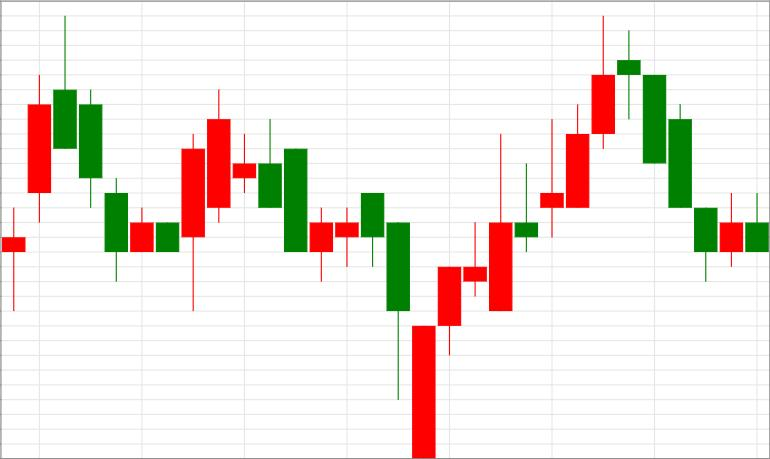evening_star_fall: (413, 14, 666, 458)
